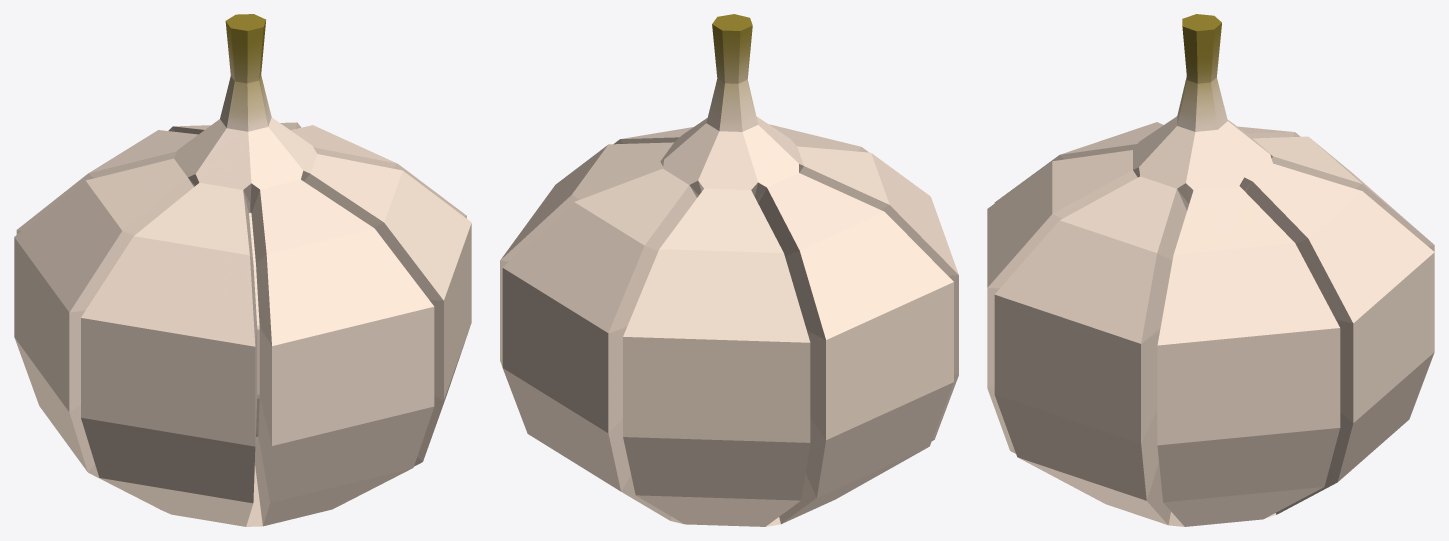
File: ajo (2).fbx
3 renders of one model, left to right at view 1: azimuth 30°, elevation 25°; view 2: azimuth 150°, elevation 25°; view 3: azimuth 270°, elevation 25°, orthographic.
Visible parts, largest first — view 1: Circle; view 2: Circle; view 3: Circle.
Part boxes in pixels (box(x1,y1,x2,y2)): Circle: box(14, 14, 471, 526); Circle: box(500, 14, 958, 526); Circle: box(987, 14, 1434, 526).
Size of the model in its own units: 278 by 306 by 271.
Materials: 1 (1 with a texture image).
